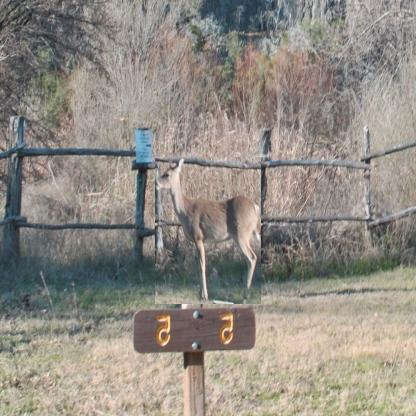Deer: (155, 157, 261, 304)
